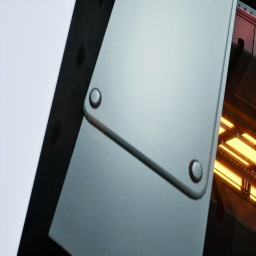SafetySwitchPanel ,: (48, 0, 238, 256)
